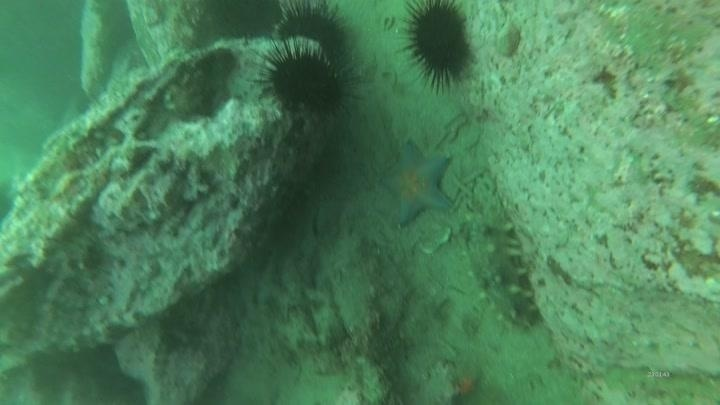echinus: (256, 47, 352, 125), (399, 1, 477, 91), (271, 1, 353, 62)
holothurian: (472, 201, 539, 331)
starfish: (378, 140, 456, 228), (445, 362, 487, 403)
